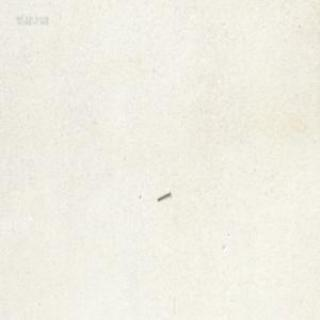Bolttrack_idkeyframe: (155, 190, 170, 200)
